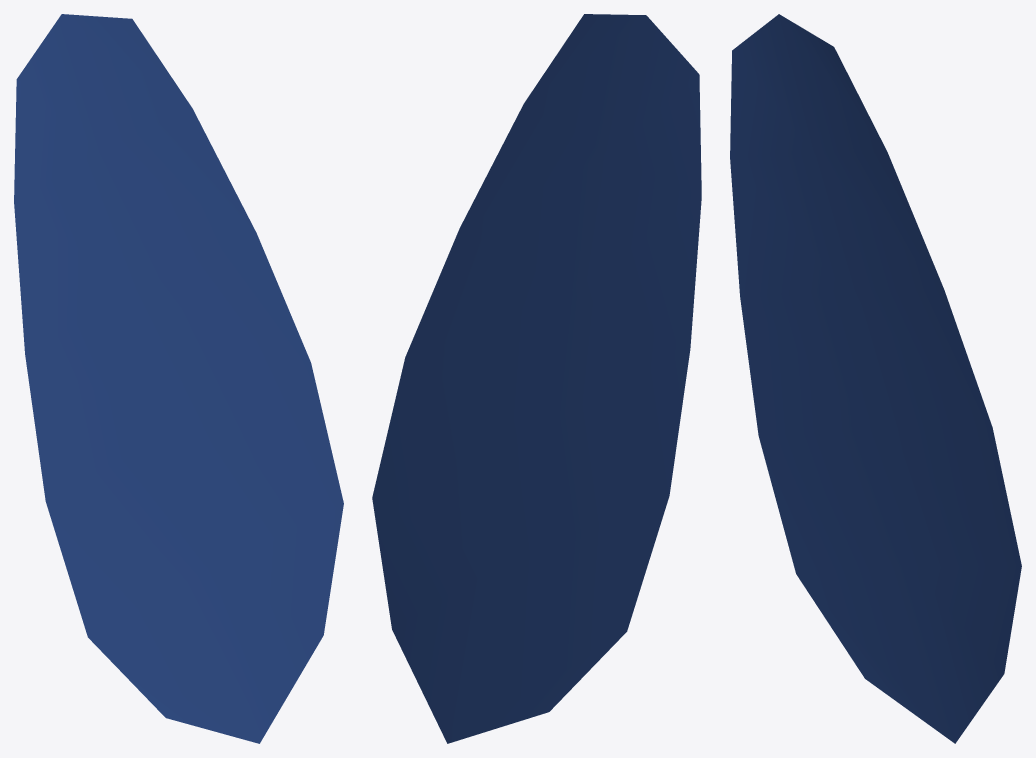
Rendered from lovebird_feather_flight_secondary_025.obj.
3 renders of one model, left to right at view 1: azimuth 30°, elevation 25°; view 2: azimuth 150°, elevation 25°; view 3: azimuth 330°, elevation 25°, orthographic. The views are drawn at different scales.
Visible parts, largest first — view 1: feather_flight_secondary_025; view 2: feather_flight_secondary_025; view 3: feather_flight_secondary_025.
Part boxes in pixels (x1,y1,x2,y2): feather_flight_secondary_025: (14, 14, 343, 743); feather_flight_secondary_025: (372, 14, 701, 743); feather_flight_secondary_025: (730, 14, 1021, 743).
Size of the model in its own units: 0.00744 by 0.0168 by 0.000194.
